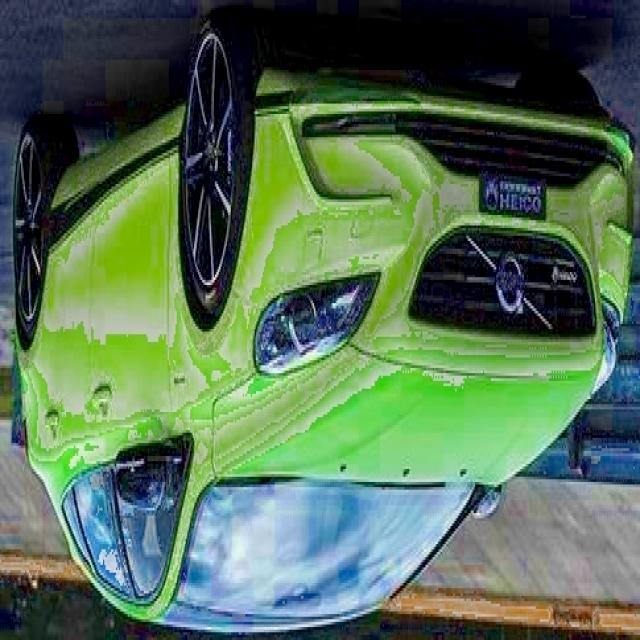green: (12, 9, 635, 634)
